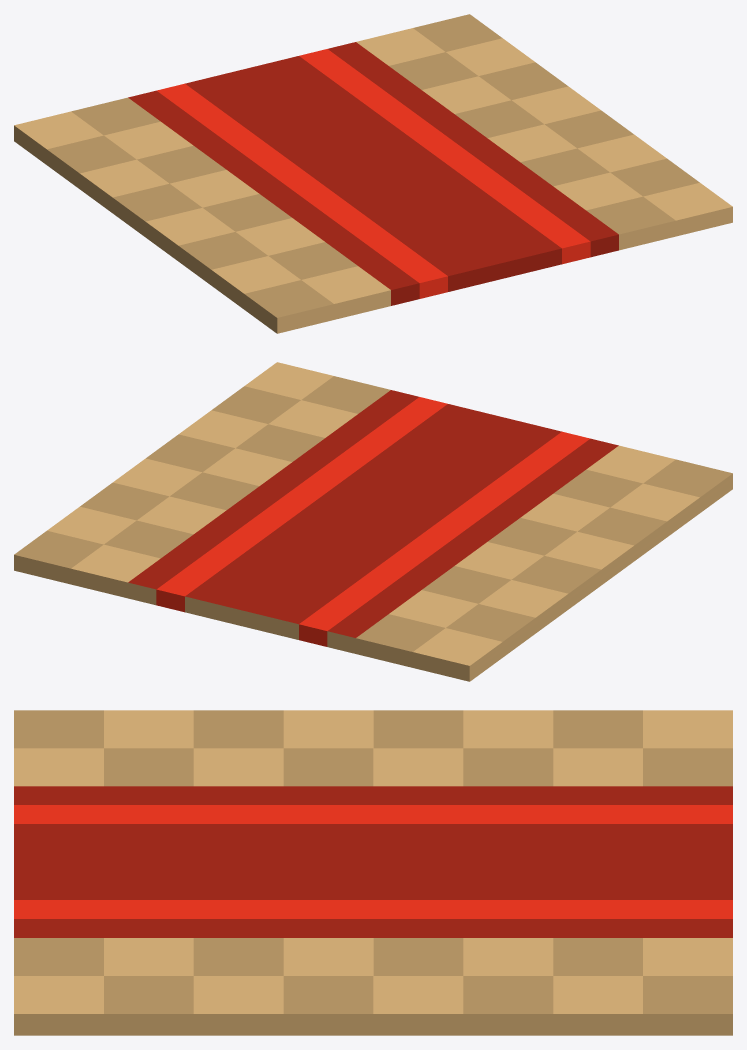
The model's file is CorridorFloor.fbx.
3 views of the same model, one above another, from view 1: azimuth 30°, elevation 25°; view 2: azimuth 150°, elevation 25°; view 3: azimuth 270°, elevation 25° (orthographic). The views are drawn at different scales.
Parts seen in each view (by area): view 1: CoridoorFloor; view 2: CoridoorFloor; view 3: CoridoorFloor.
Part boxes in pixels (box(x1,y1,x2,y2)): CoridoorFloor: box(14, 14, 732, 333); CoridoorFloor: box(14, 362, 732, 681); CoridoorFloor: box(14, 710, 732, 1035).
Size of the model in its own units: 300 by 10 by 300.
